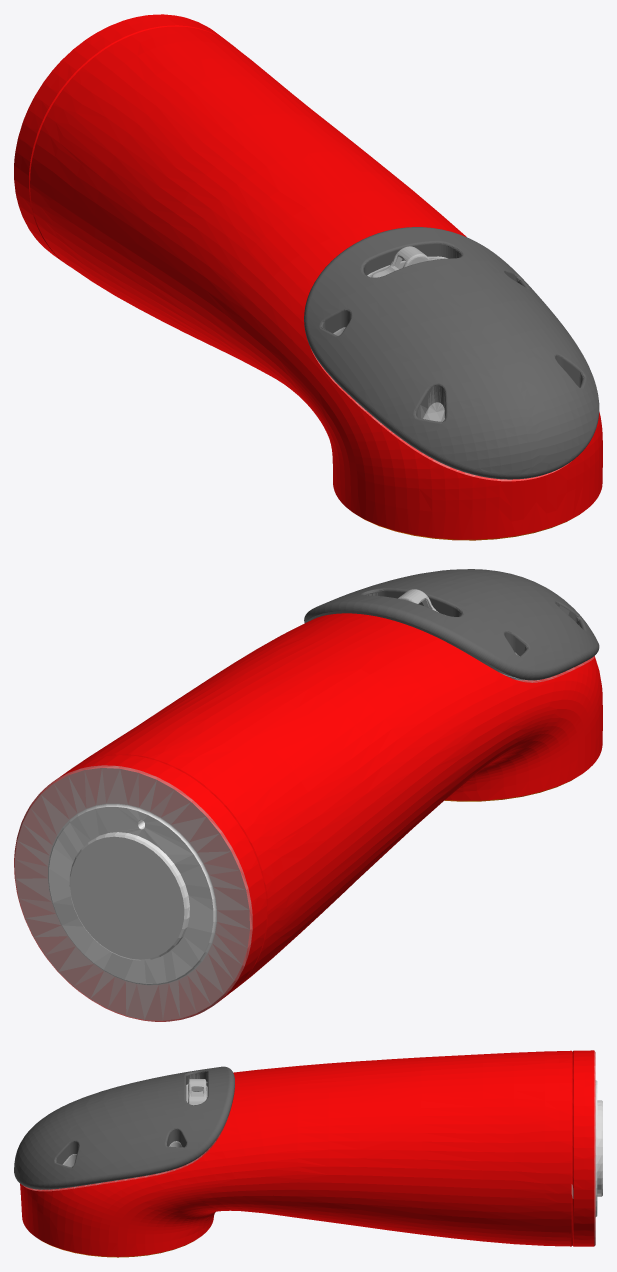
Rendered from SawyerLink3.dae.
3 renders of one model, top to bottom at view 1: azimuth 30°, elevation 25°; view 2: azimuth 150°, elevation 25°; view 3: azimuth 270°, elevation 25°, orthographic. The views are drawn at different scales.
Visible parts, largest first — view 1: SawyerLink3; view 2: SawyerLink3; view 3: SawyerLink3.
Boxes of the visible parts, x1,y1,x2,y2 form: SawyerLink3: (14,14,602,540); SawyerLink3: (14,569,602,1021); SawyerLink3: (14,1050,602,1257).
Size of the model in its own units: 0.1064 by 0.3194 by 0.1065.
